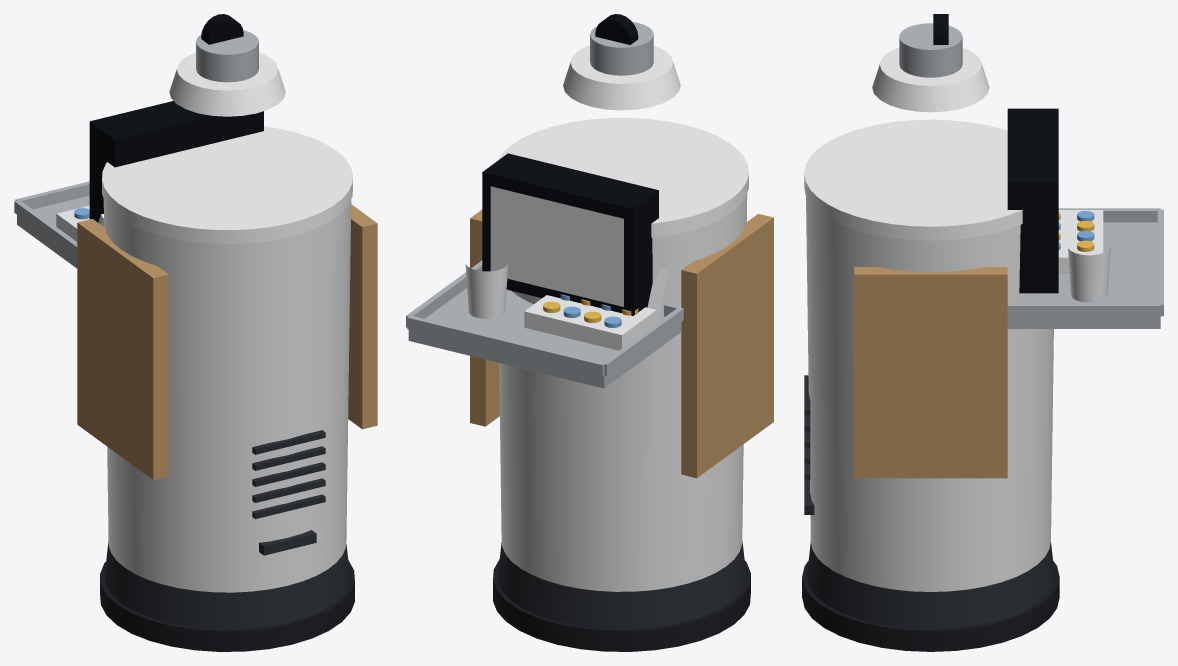
The model's file is grandma-robot.glb.
3 views of the same model, side by side, from view 1: azimuth 30°, elevation 25°; view 2: azimuth 150°, elevation 25°; view 3: azimuth 270°, elevation 25° (orthographic).
Parts seen in each view (by area): view 1: 送药机器人; view 2: 送药机器人; view 3: 送药机器人.
Boxes of the visible parts, x1,y1,x2,y2 form: 送药机器人: (14, 14, 377, 651); 送药机器人: (406, 14, 773, 651); 送药机器人: (802, 14, 1163, 651).
Size of the model in its own units: 0.511 by 1.27 by 0.708.
